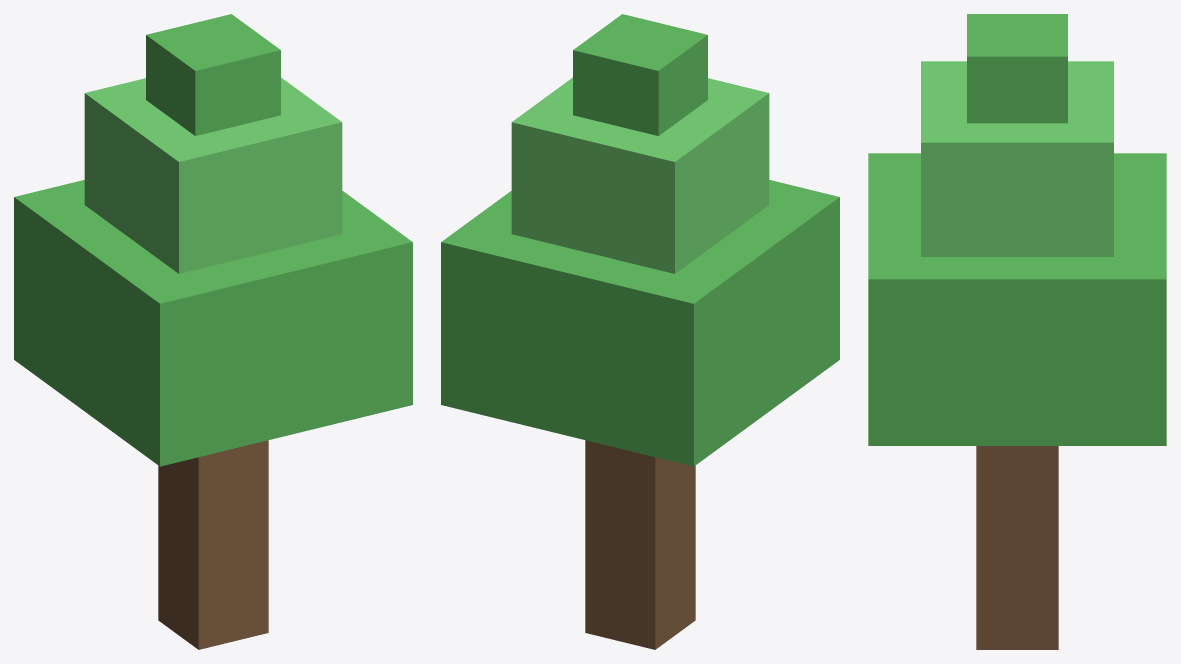
The model's file is tree2.glb.
3 views of the same model, side by side, from view 1: azimuth 30°, elevation 25°; view 2: azimuth 150°, elevation 25°; view 3: azimuth 270°, elevation 25° (orthographic). The views are drawn at different scales.
Visible parts, largest first — view 1: Foliage_Tier2, Foliage_Tier3, Trunk, Foliage_Tip; view 2: Foliage_Tier2, Foliage_Tier3, Trunk, Foliage_Tip; view 3: Foliage_Tier2, Foliage_Tier3, Trunk, Foliage_Tip.
Boxes of the visible parts, <box> form: Foliage_Tier2: <box>14,180,412,466</box>; Foliage_Tier3: <box>84,77,342,273</box>; Trunk: <box>158,440,268,649</box>; Foliage_Tip: <box>146,14,280,135</box>; Foliage_Tier2: <box>441,180,839,466</box>; Foliage_Tier3: <box>511,77,769,273</box>; Trunk: <box>585,440,695,649</box>; Foliage_Tip: <box>573,14,707,135</box>; Foliage_Tier2: <box>868,153,1166,445</box>; Foliage_Tier3: <box>921,61,1113,256</box>; Trunk: <box>976,446,1058,649</box>; Foliage_Tip: <box>967,14,1067,123</box>.
Size of the model in its own units: 3.83 by 8.46 by 3.83.
